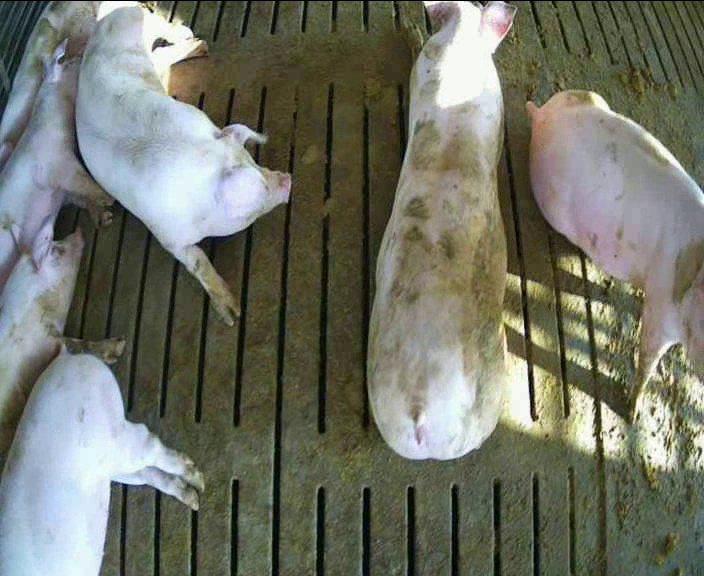pig: (76, 6, 289, 324), (367, 2, 515, 459), (528, 90, 703, 423), (0, 348, 203, 574), (0, 221, 125, 470), (0, 44, 112, 289)
